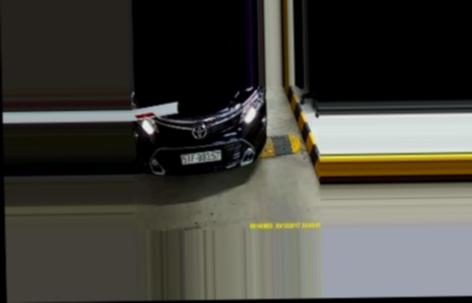License_Plate: (181, 149, 223, 164)
